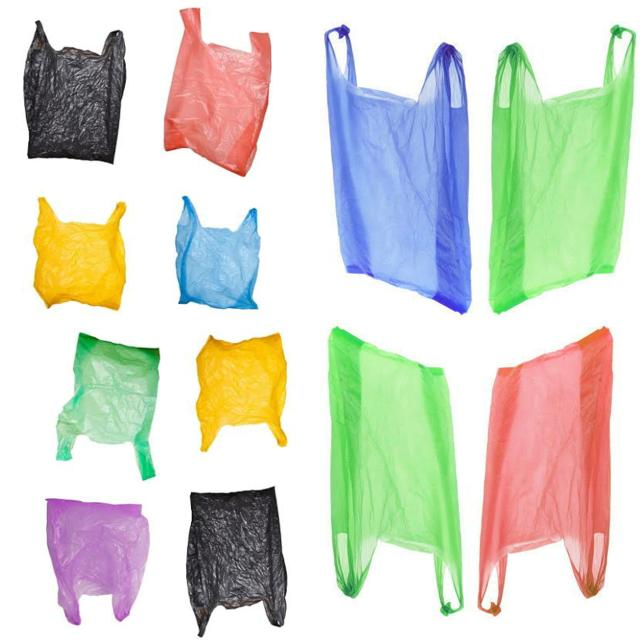Single-layer Plastic: (325, 26, 471, 312), (490, 26, 635, 312), (329, 328, 464, 615), (478, 328, 612, 615), (165, 9, 271, 176), (56, 334, 160, 478), (186, 488, 286, 636), (24, 21, 126, 163), (48, 499, 149, 624), (196, 334, 286, 451), (34, 198, 126, 310), (175, 196, 260, 309)
